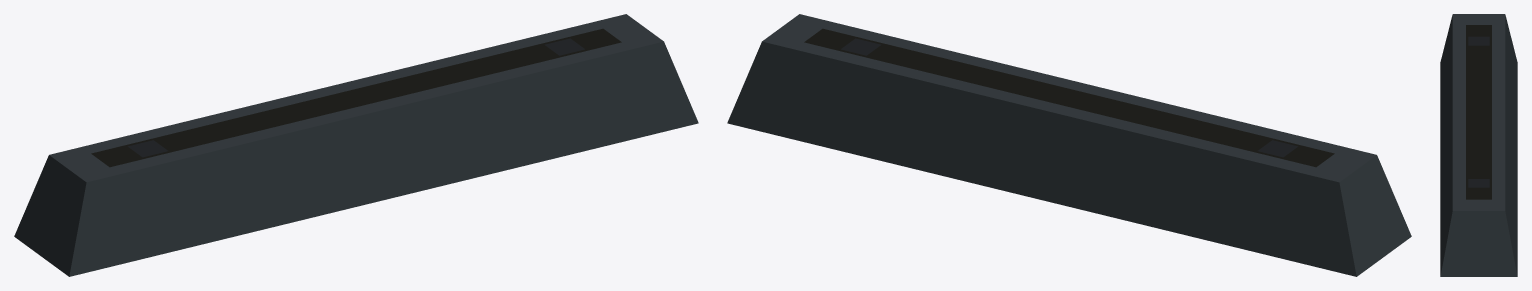
File: lp_park_wheel_stop.glb
3 renders of one model, left to right at view 1: azimuth 30°, elevation 25°; view 2: azimuth 150°, elevation 25°; view 3: azimuth 270°, elevation 25°, orthographic. The views are drawn at different scales.
Parts seen in each view (by area): view 1: lp_park_wheel_stop; view 2: lp_park_wheel_stop; view 3: lp_park_wheel_stop.
Part boxes in pixels (x1,y1,x2,y2): lp_park_wheel_stop: (14, 14, 698, 276); lp_park_wheel_stop: (727, 14, 1411, 276); lp_park_wheel_stop: (1440, 14, 1517, 276).
Bounding box in the file's own units: 1.45 × 0.1806 × 0.22.
Materials: 1 (1 with a texture image).
